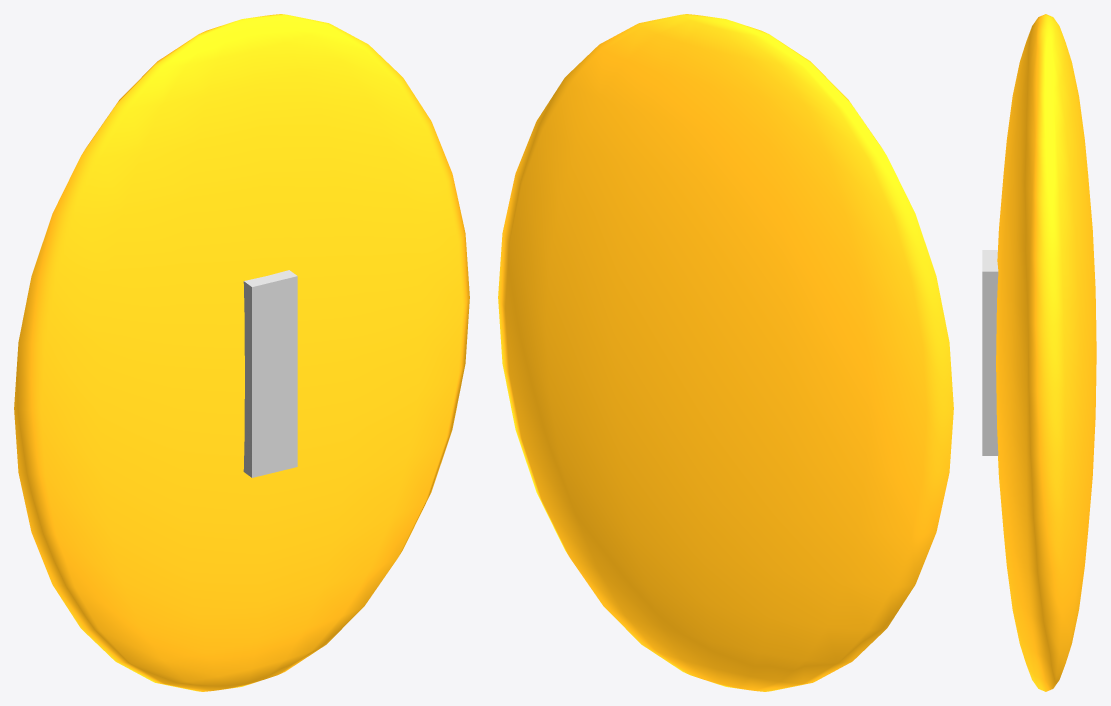
Rendered from coin.glb.
3 views of the same model, side by side, from view 1: azimuth 30°, elevation 25°; view 2: azimuth 150°, elevation 25°; view 3: azimuth 270°, elevation 25° (orthographic). The views are drawn at different scales.
Visible parts, largest first — view 1: coin; view 2: coin; view 3: coin.
Boxes of the visible parts, box(x1,y1,x2,y2) form: coin: box(14, 14, 469, 691); coin: box(498, 14, 953, 691); coin: box(982, 14, 1096, 691).
Size of the model in its own units: 1 by 1.4 by 0.225.
